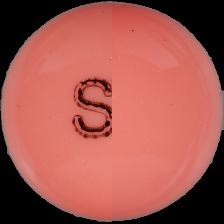0591-3964: (0, 0, 224, 224)
